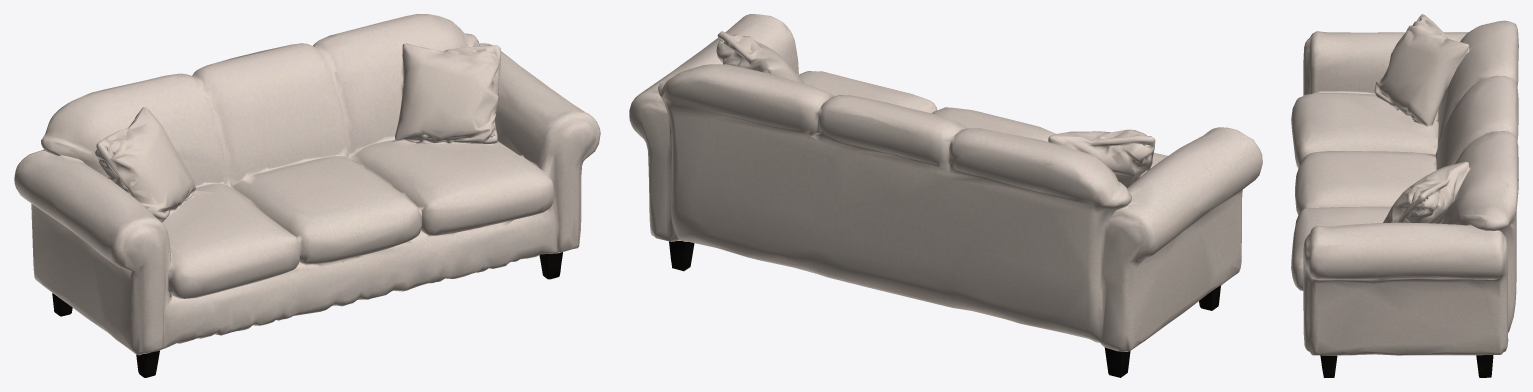
Rendered from living-fluffy-sofa.glb.
The picture shows the model from 3 angles, left to right: view 1: azimuth 30°, elevation 25°; view 2: azimuth 150°, elevation 25°; view 3: azimuth 270°, elevation 25°; orthographic projection. The views are drawn at different scales.
Parts seen in each view (by area): view 1: world; view 2: world; view 3: world.
Part boxes in pixels (<box>): world: <box>14,14,600,377</box>; world: <box>629,14,1262,377</box>; world: <box>1291,14,1518,377</box>.
Bounding box in the file's own units: 1 × 0.3956 × 0.4376.
Materials: 1 (1 with a texture image).
